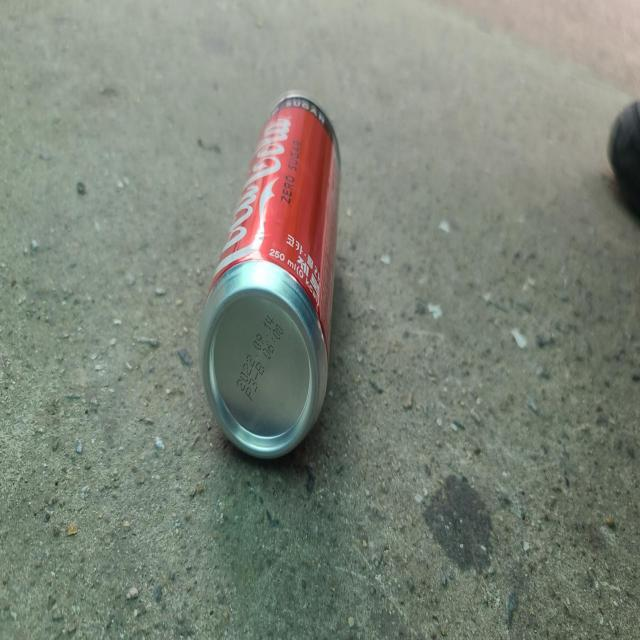can: (199, 92, 340, 457)
